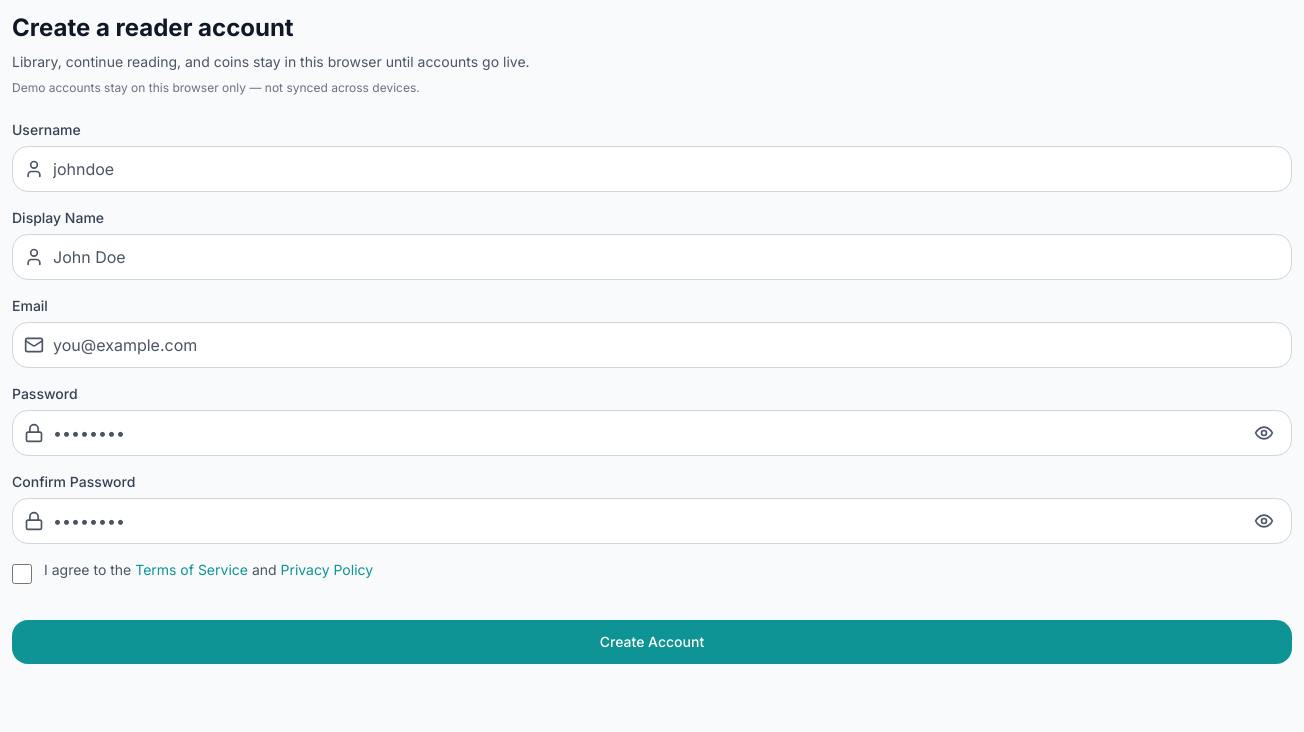
Test: RegisterPage › rejects passwords shorter than 8 characters
The image size is (1304, 732).
Type "newreader" into the field labelled "Username". click: (652,169)
box: left=12, top=146, right=1292, bottom=192
Type "New Reader" into the field labelled "Display Name". click: (652,257)
box: left=12, top=234, right=1292, bottom=280
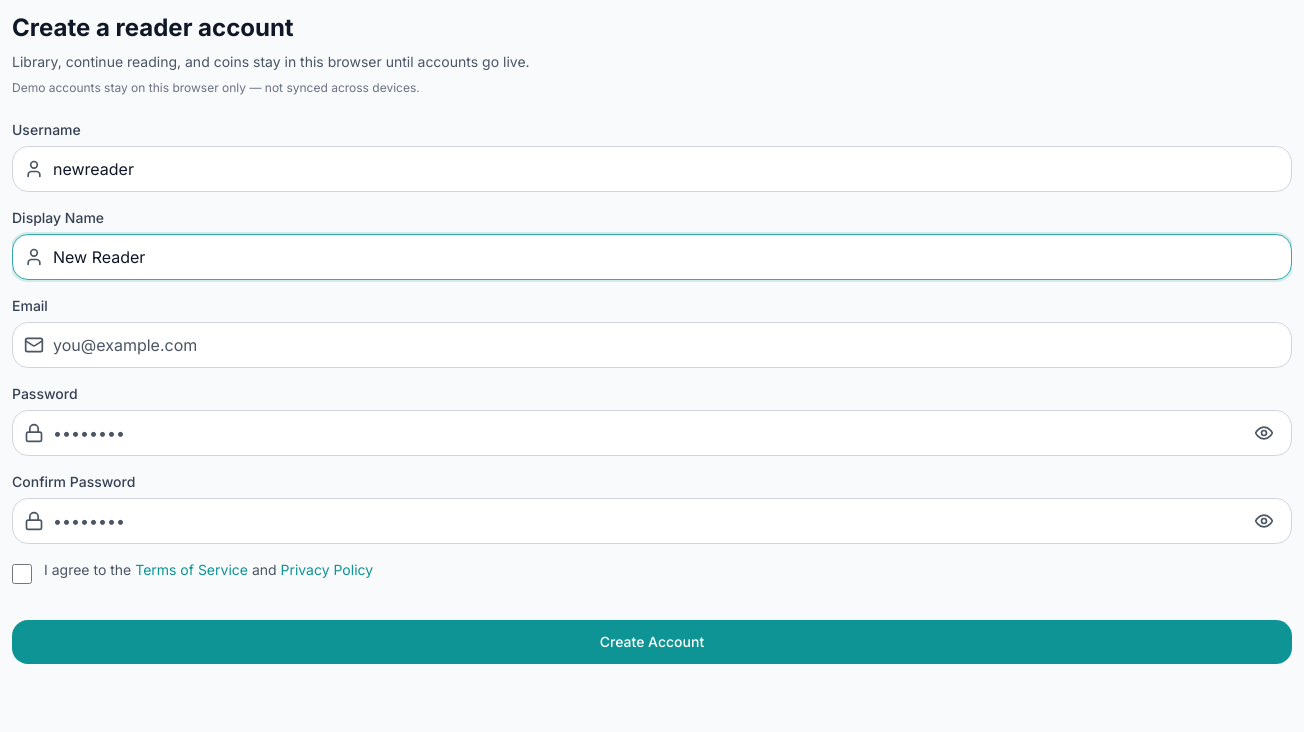
Type "new@softgate.test" into the field labelled "Email". click: (652,345)
box: left=12, top=322, right=1292, bottom=368
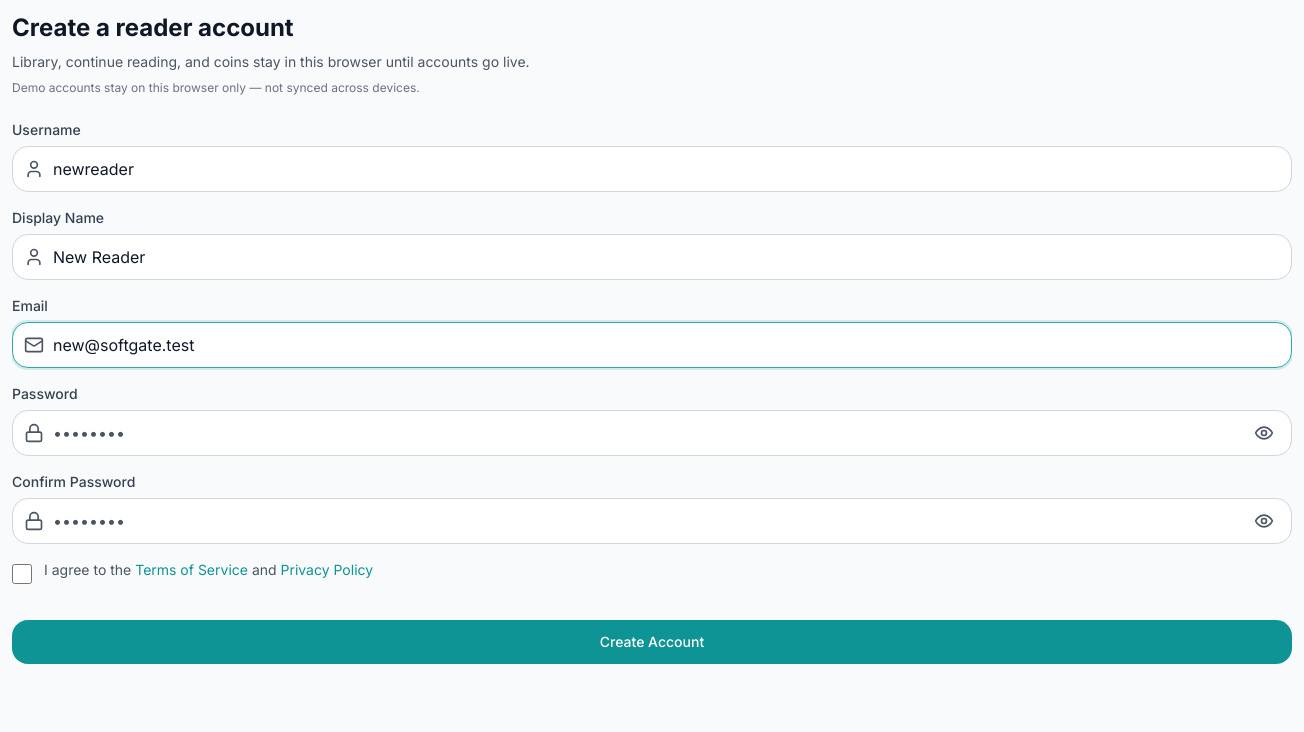
Type "secret1" into the password field labelled "Password". click: (652,433)
box: left=12, top=410, right=1292, bottom=456
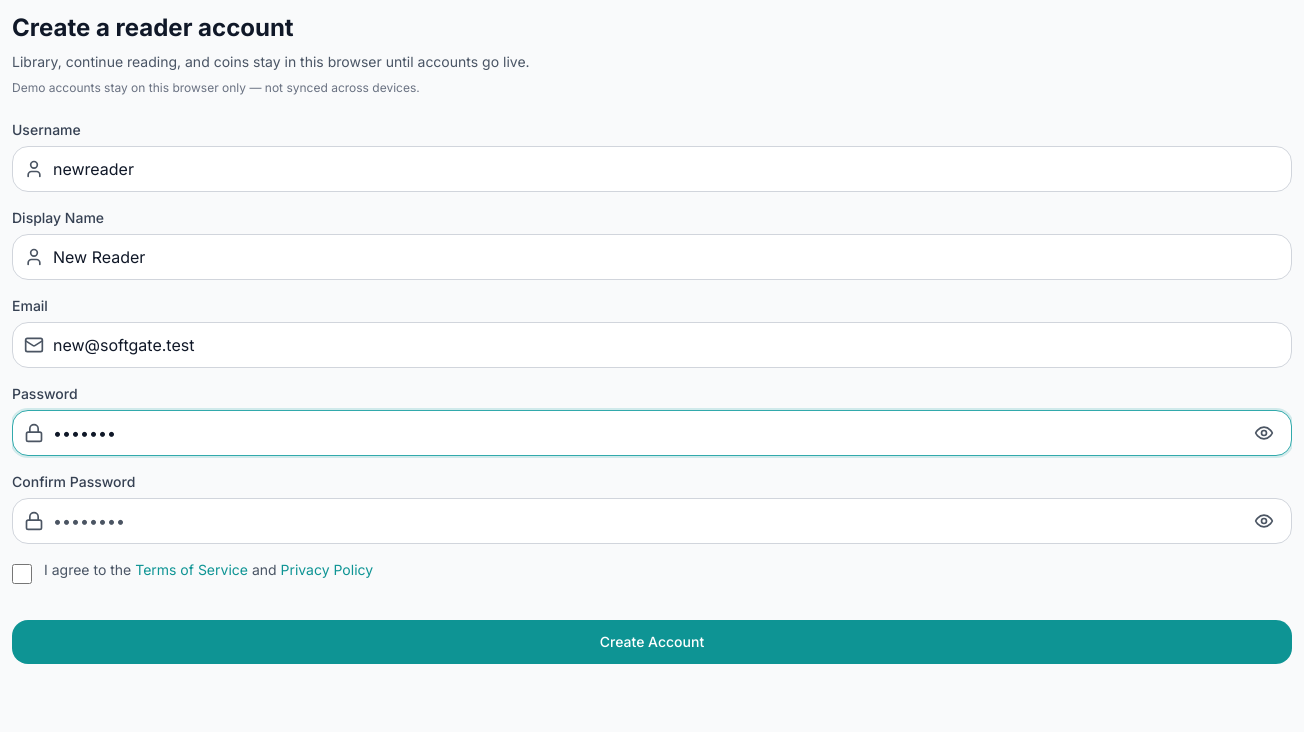
Type "secret1" into the password field labelled "Confirm Password". click: (652,521)
box: left=12, top=498, right=1292, bottom=544
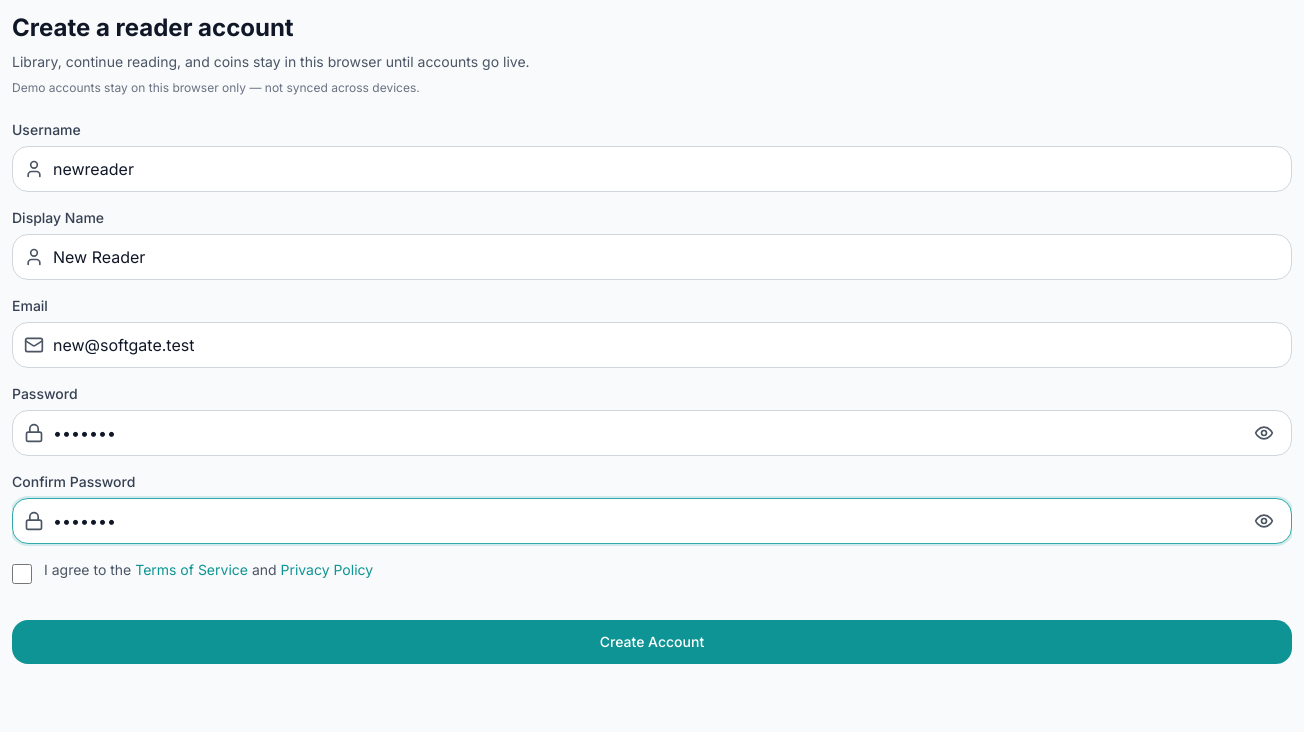
Click the checkbox. click: (22,574)
box: left=12, top=564, right=32, bottom=584
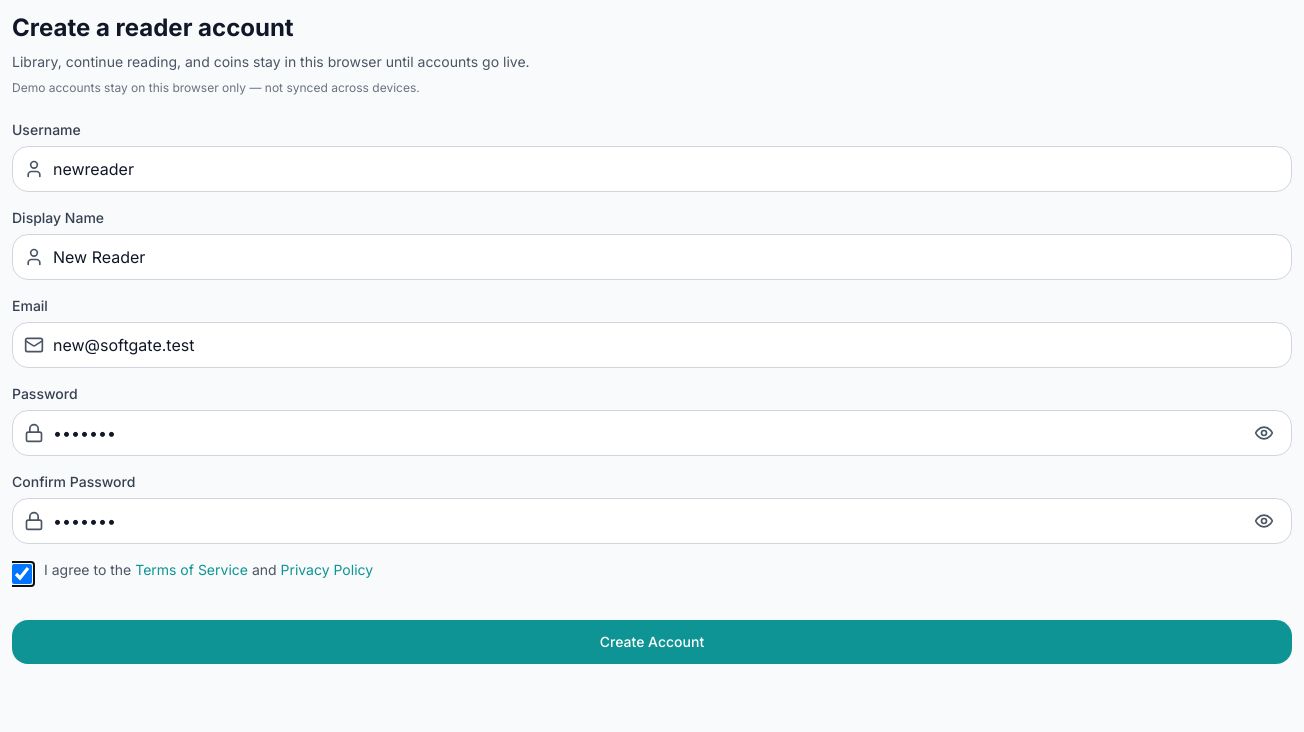
Click the button "Create Account". click: (652,642)
box: left=12, top=620, right=1292, bottom=664
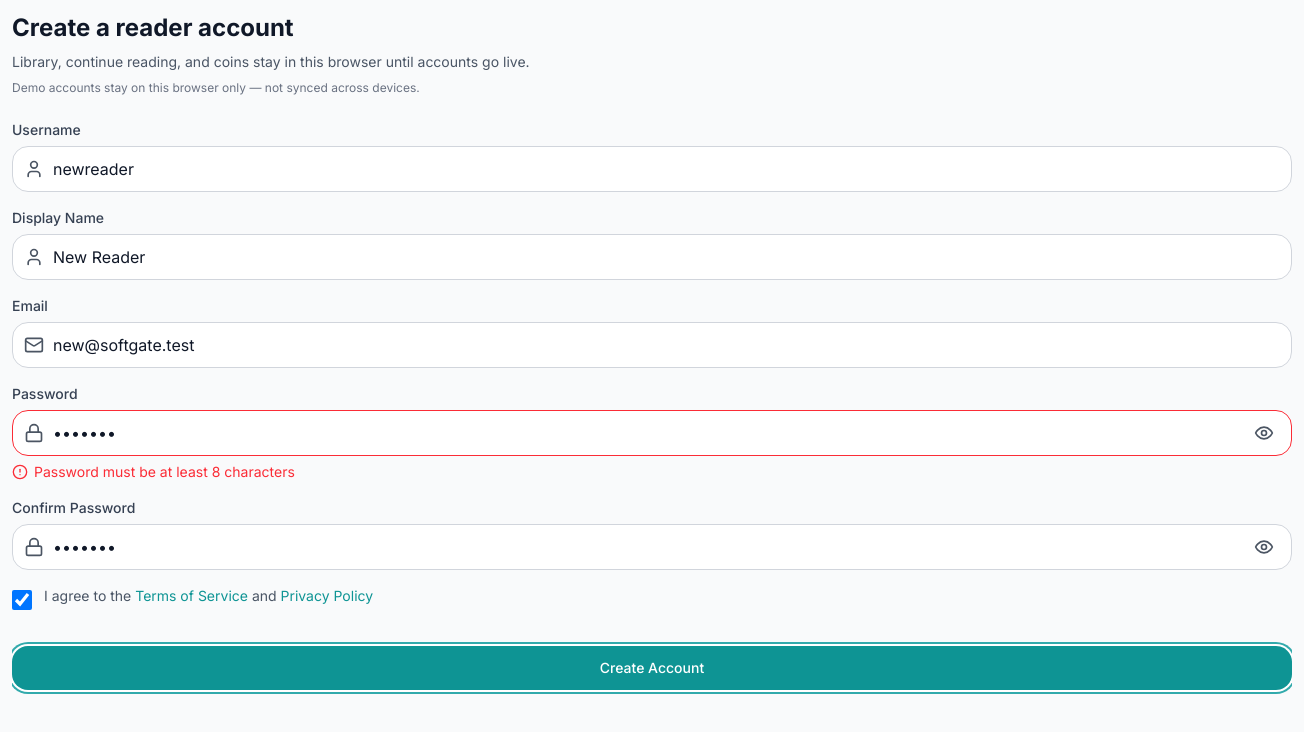
Result: the text "Password must be at least 8 characters" is shown at left=12, top=463, right=295, bottom=480
